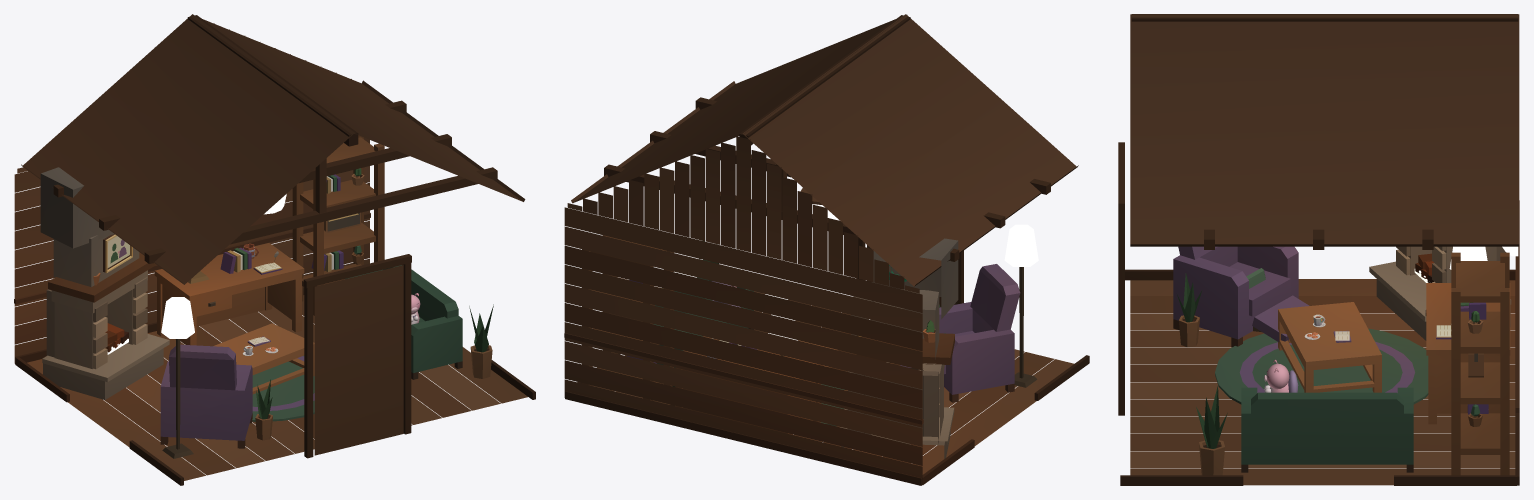
The model's file is cabin-interior.glb.
The picture shows the model from 3 angles, left to right: view 1: azimuth 30°, elevation 25°; view 2: azimuth 150°, elevation 25°; view 3: azimuth 270°, elevation 25°; orthographic projection. The views are drawn at different scales.
Visible parts, largest first — view 1: cabin-interior-furniture, cabin-interior-glow; view 2: cabin-interior-furniture, cabin-interior-glow; view 3: cabin-interior-furniture, cabin-interior-glow.
Boxes of the visible parts, x1=… form: cabin-interior-furniture: x1=14, y1=14, x2=535, y2=485; cabin-interior-glow: x1=107, y1=194, x2=286, y2=354; cabin-interior-furniture: x1=564, y1=14, x2=1089, y2=485; cabin-interior-glow: x1=674, y1=204, x2=1038, y2=340; cabin-interior-furniture: x1=1118, y1=14, x2=1519, y2=485; cabin-interior-glow: x1=1414, y1=246, x2=1518, y2=282.
Bounding box in the file's own units: 3.92 × 3.26 × 3.2.
